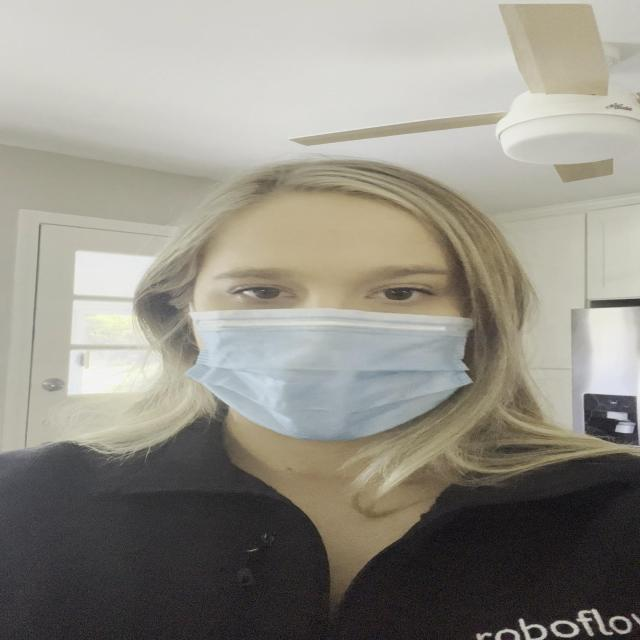no-helmet: (141, 166, 511, 461)
